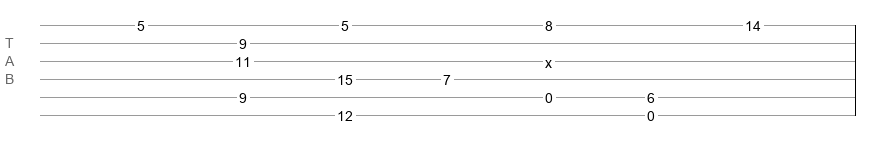0: (545, 90, 553, 100), (647, 108, 655, 118)
11: (235, 54, 251, 64)
12: (337, 108, 353, 118)
14: (745, 18, 761, 28)
15: (337, 72, 353, 82)
5: (137, 18, 145, 28), (341, 18, 349, 28)
6: (647, 90, 655, 100)
7: (443, 72, 451, 82)
8: (545, 18, 553, 28)
9: (239, 36, 247, 46), (239, 90, 247, 100)
x: (545, 55, 552, 63)
